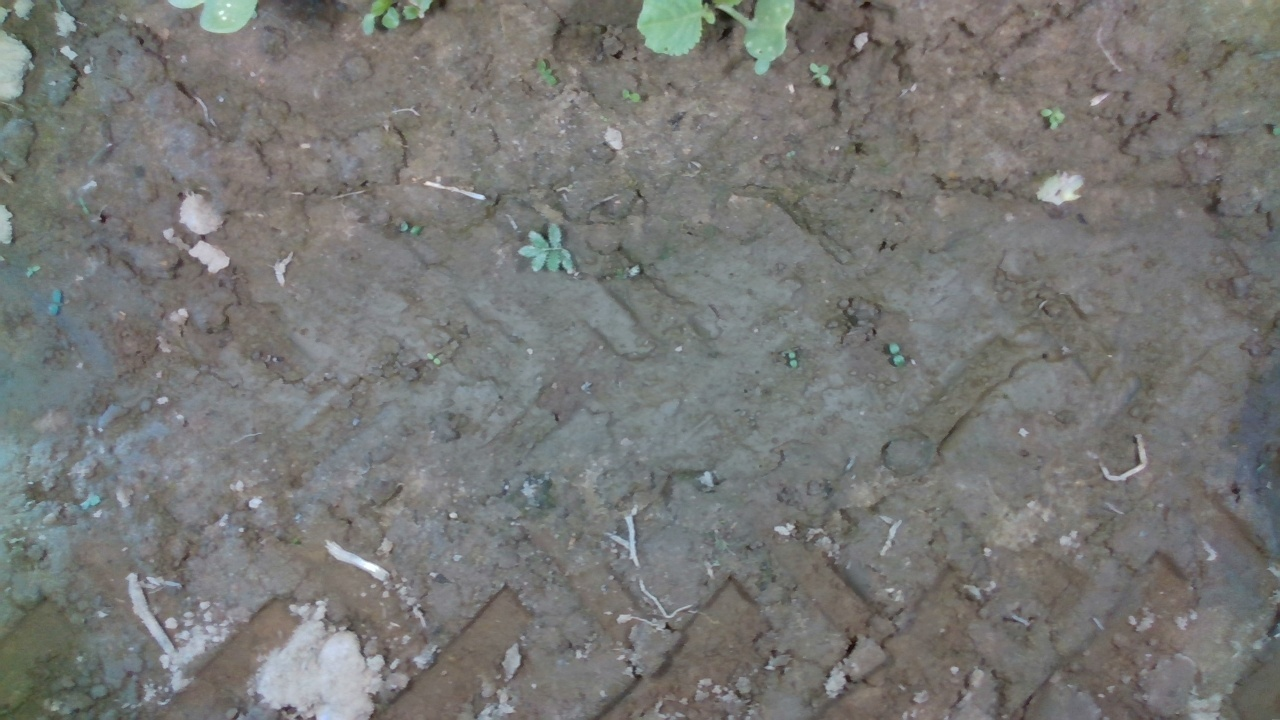weed: (535, 56, 558, 87), (807, 61, 831, 87), (887, 340, 907, 369), (424, 351, 444, 367), (622, 88, 641, 104), (788, 349, 799, 369)
